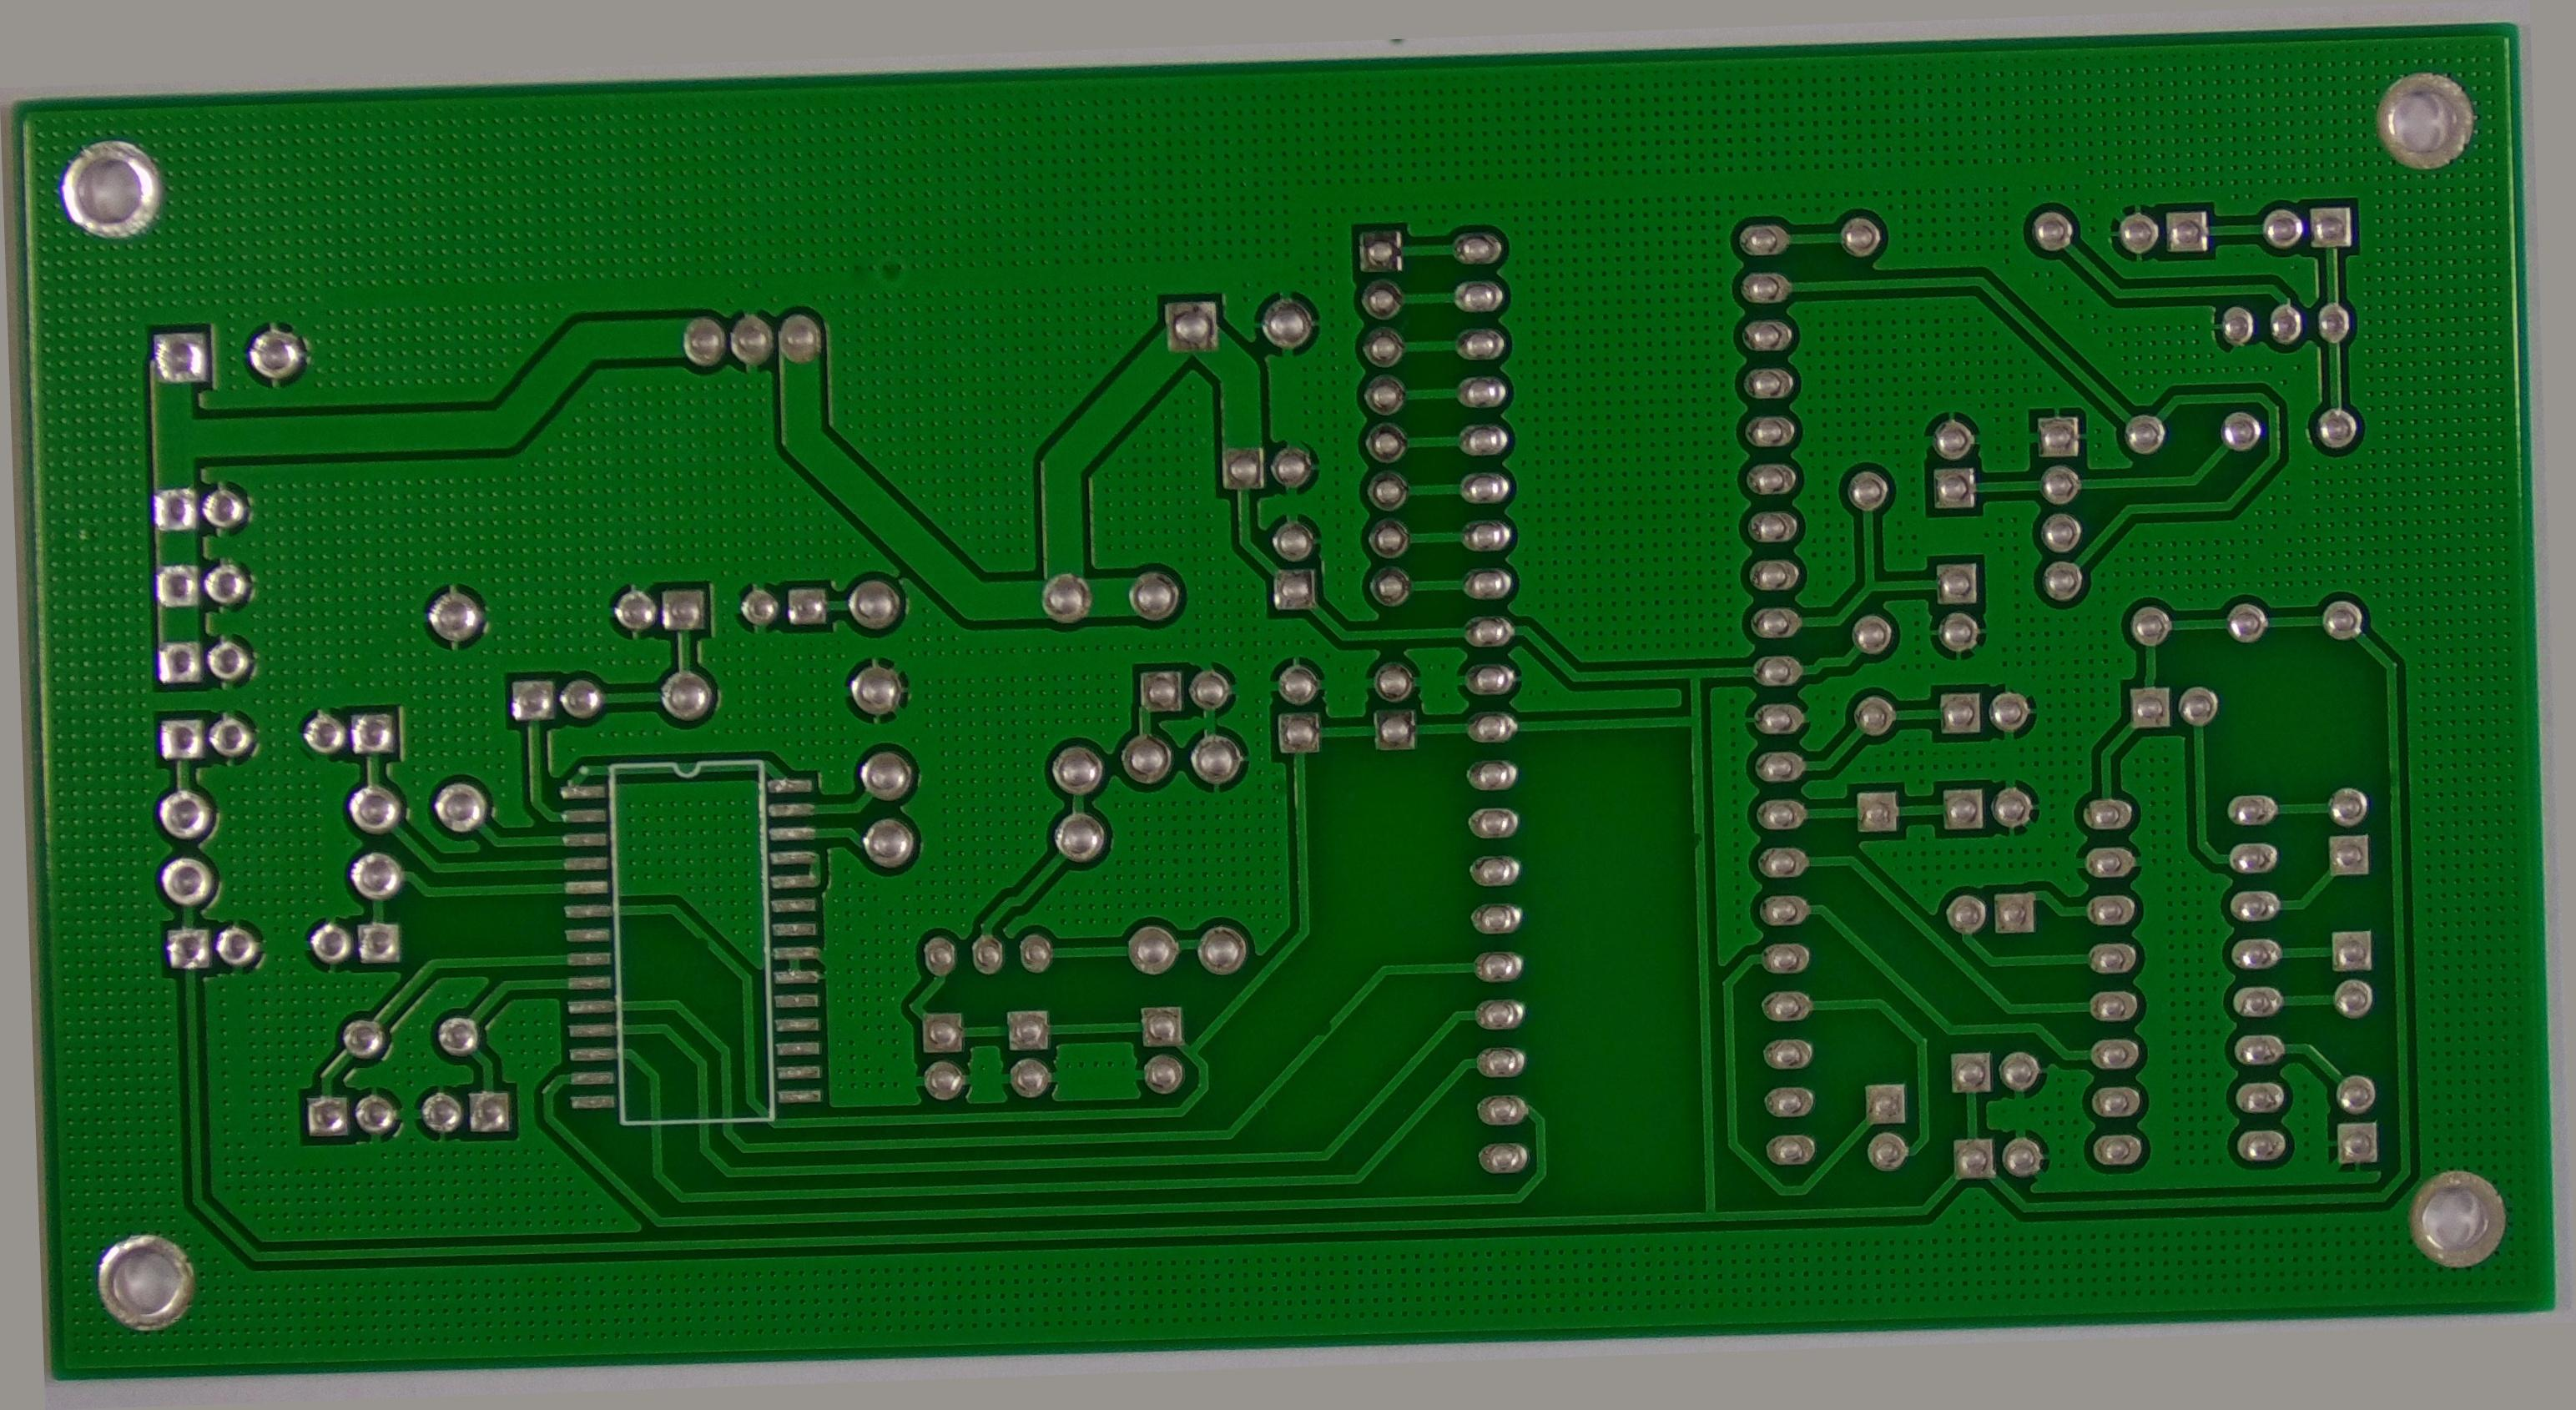mouse_bite: (1295, 1035, 1333, 1073), (665, 919, 700, 953), (1684, 844, 1717, 877)
